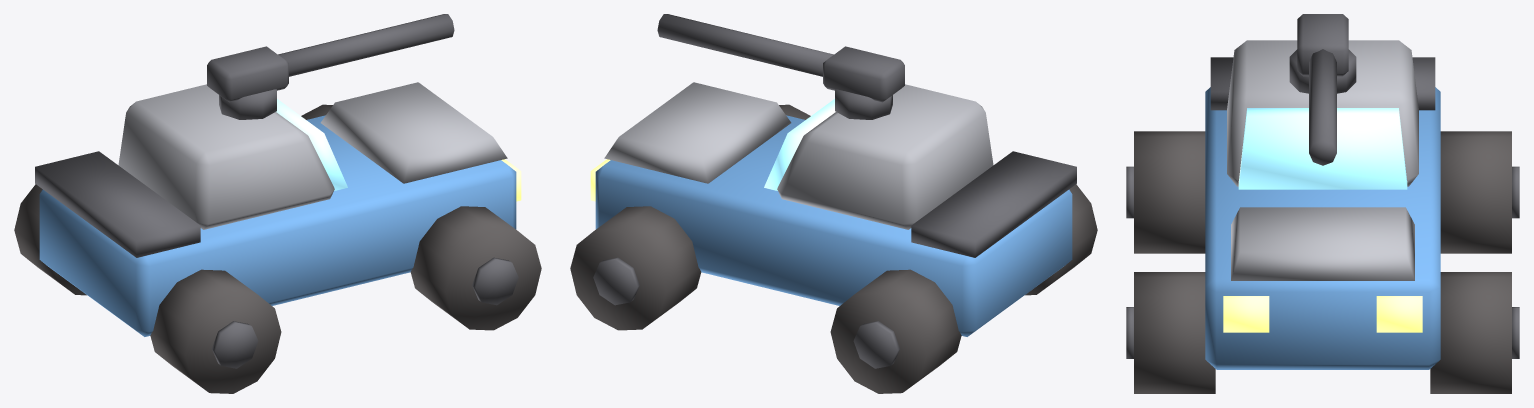
Rendered from buggy.glb.
3 renders of one model, left to right at view 1: azimuth 30°, elevation 25°; view 2: azimuth 150°, elevation 25°; view 3: azimuth 270°, elevation 25°, orthographic. The views are drawn at different scales.
Visible parts, largest first — view 1: body; view 2: body; view 3: body.
Boxes of the visible parts, <box> form: body: <box>14,14,541,393</box>; body: <box>570,14,1097,393</box>; body: <box>1126,14,1519,393</box>.
Bounding box in the file's own units: 0.5362 × 0.3245 × 0.4235.
